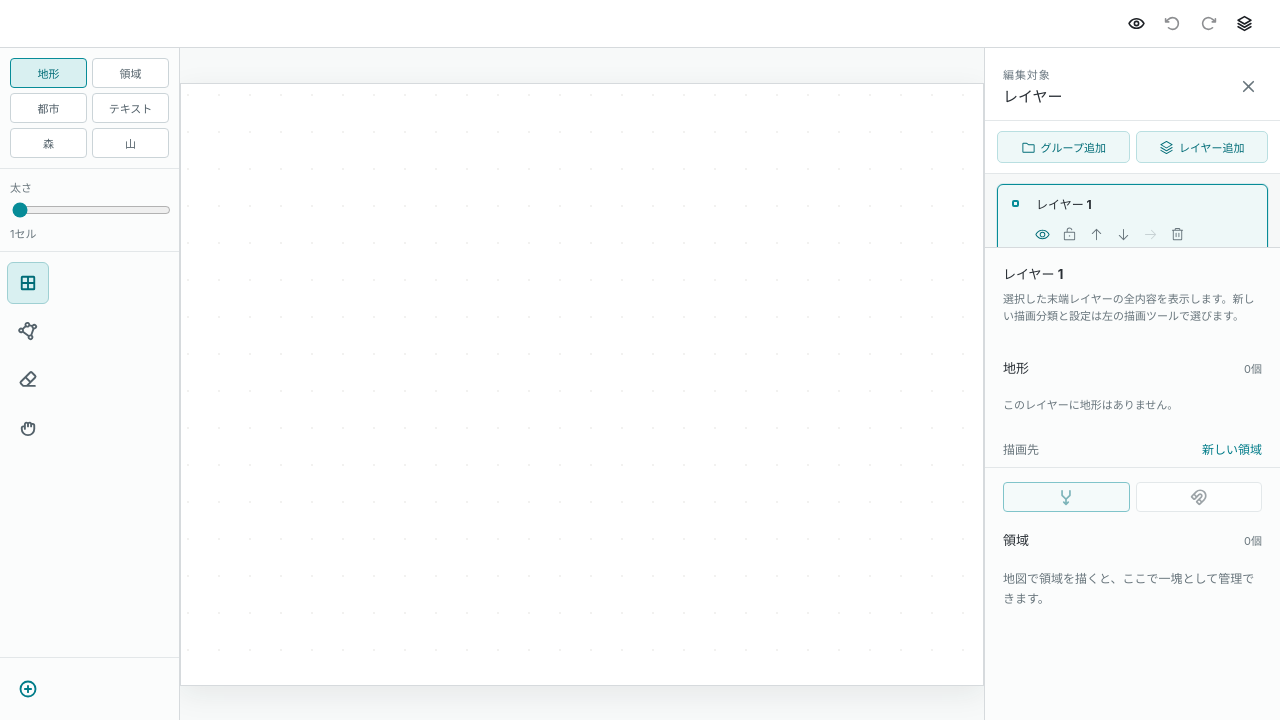
Scenario: disables editing controls while the map preview is open
The image size is (1280, 720).
Step 1. Click the radio button labelled "領域" → (130, 73), box [92,58,169,88]
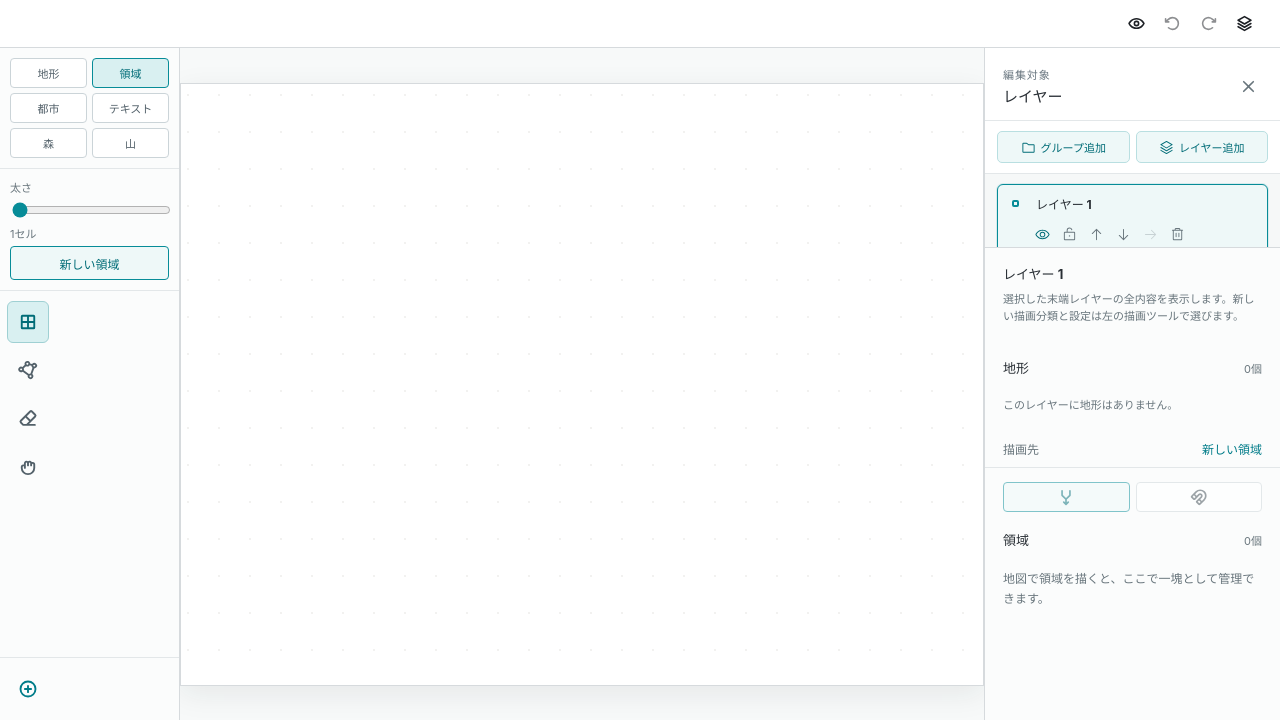
Step 2. Click the button named "レンダリングプレビューを表示" → (1136, 24), box [1120,8,1152,40]
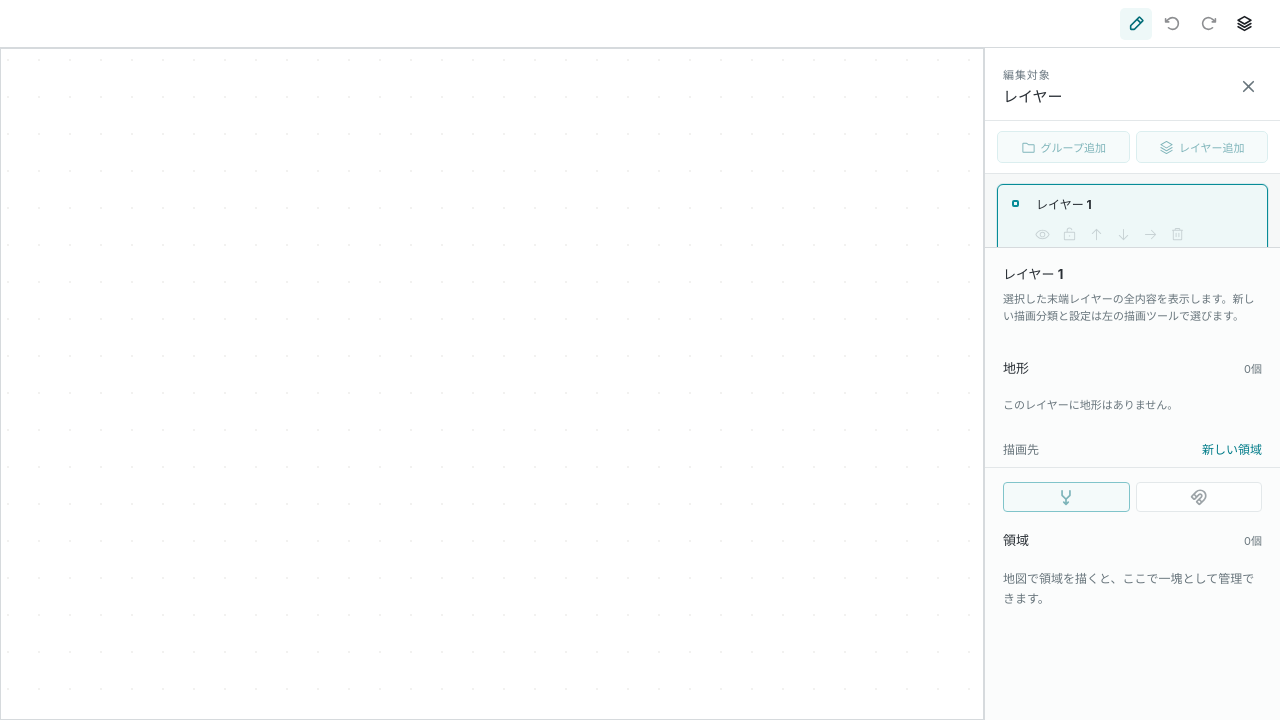
Check: the button named "戻す" is disabled, box [1156,8,1188,40]
Check: the button "新規作成" is gone
Step 3. Click the button named "編集画面に戻る" → (1136, 24), box [1120,8,1152,40]
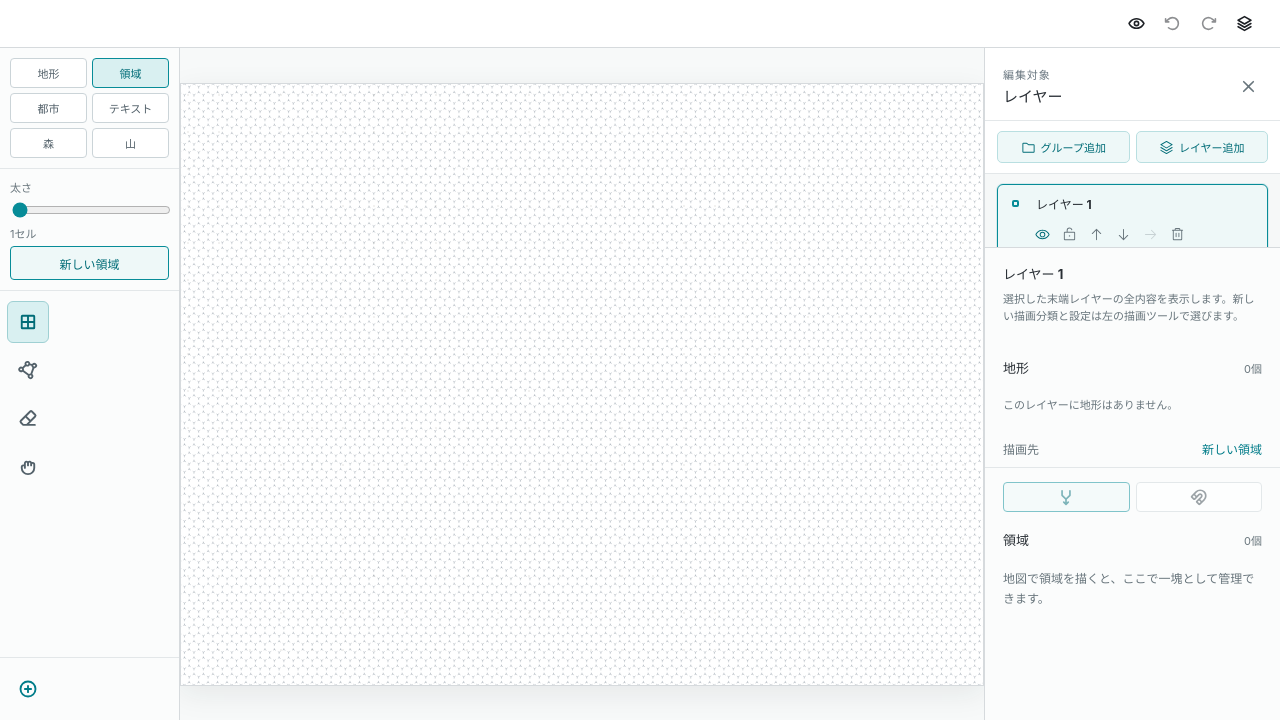
Check: the button "新しい領域" is enabled, box [10,246,169,280]
